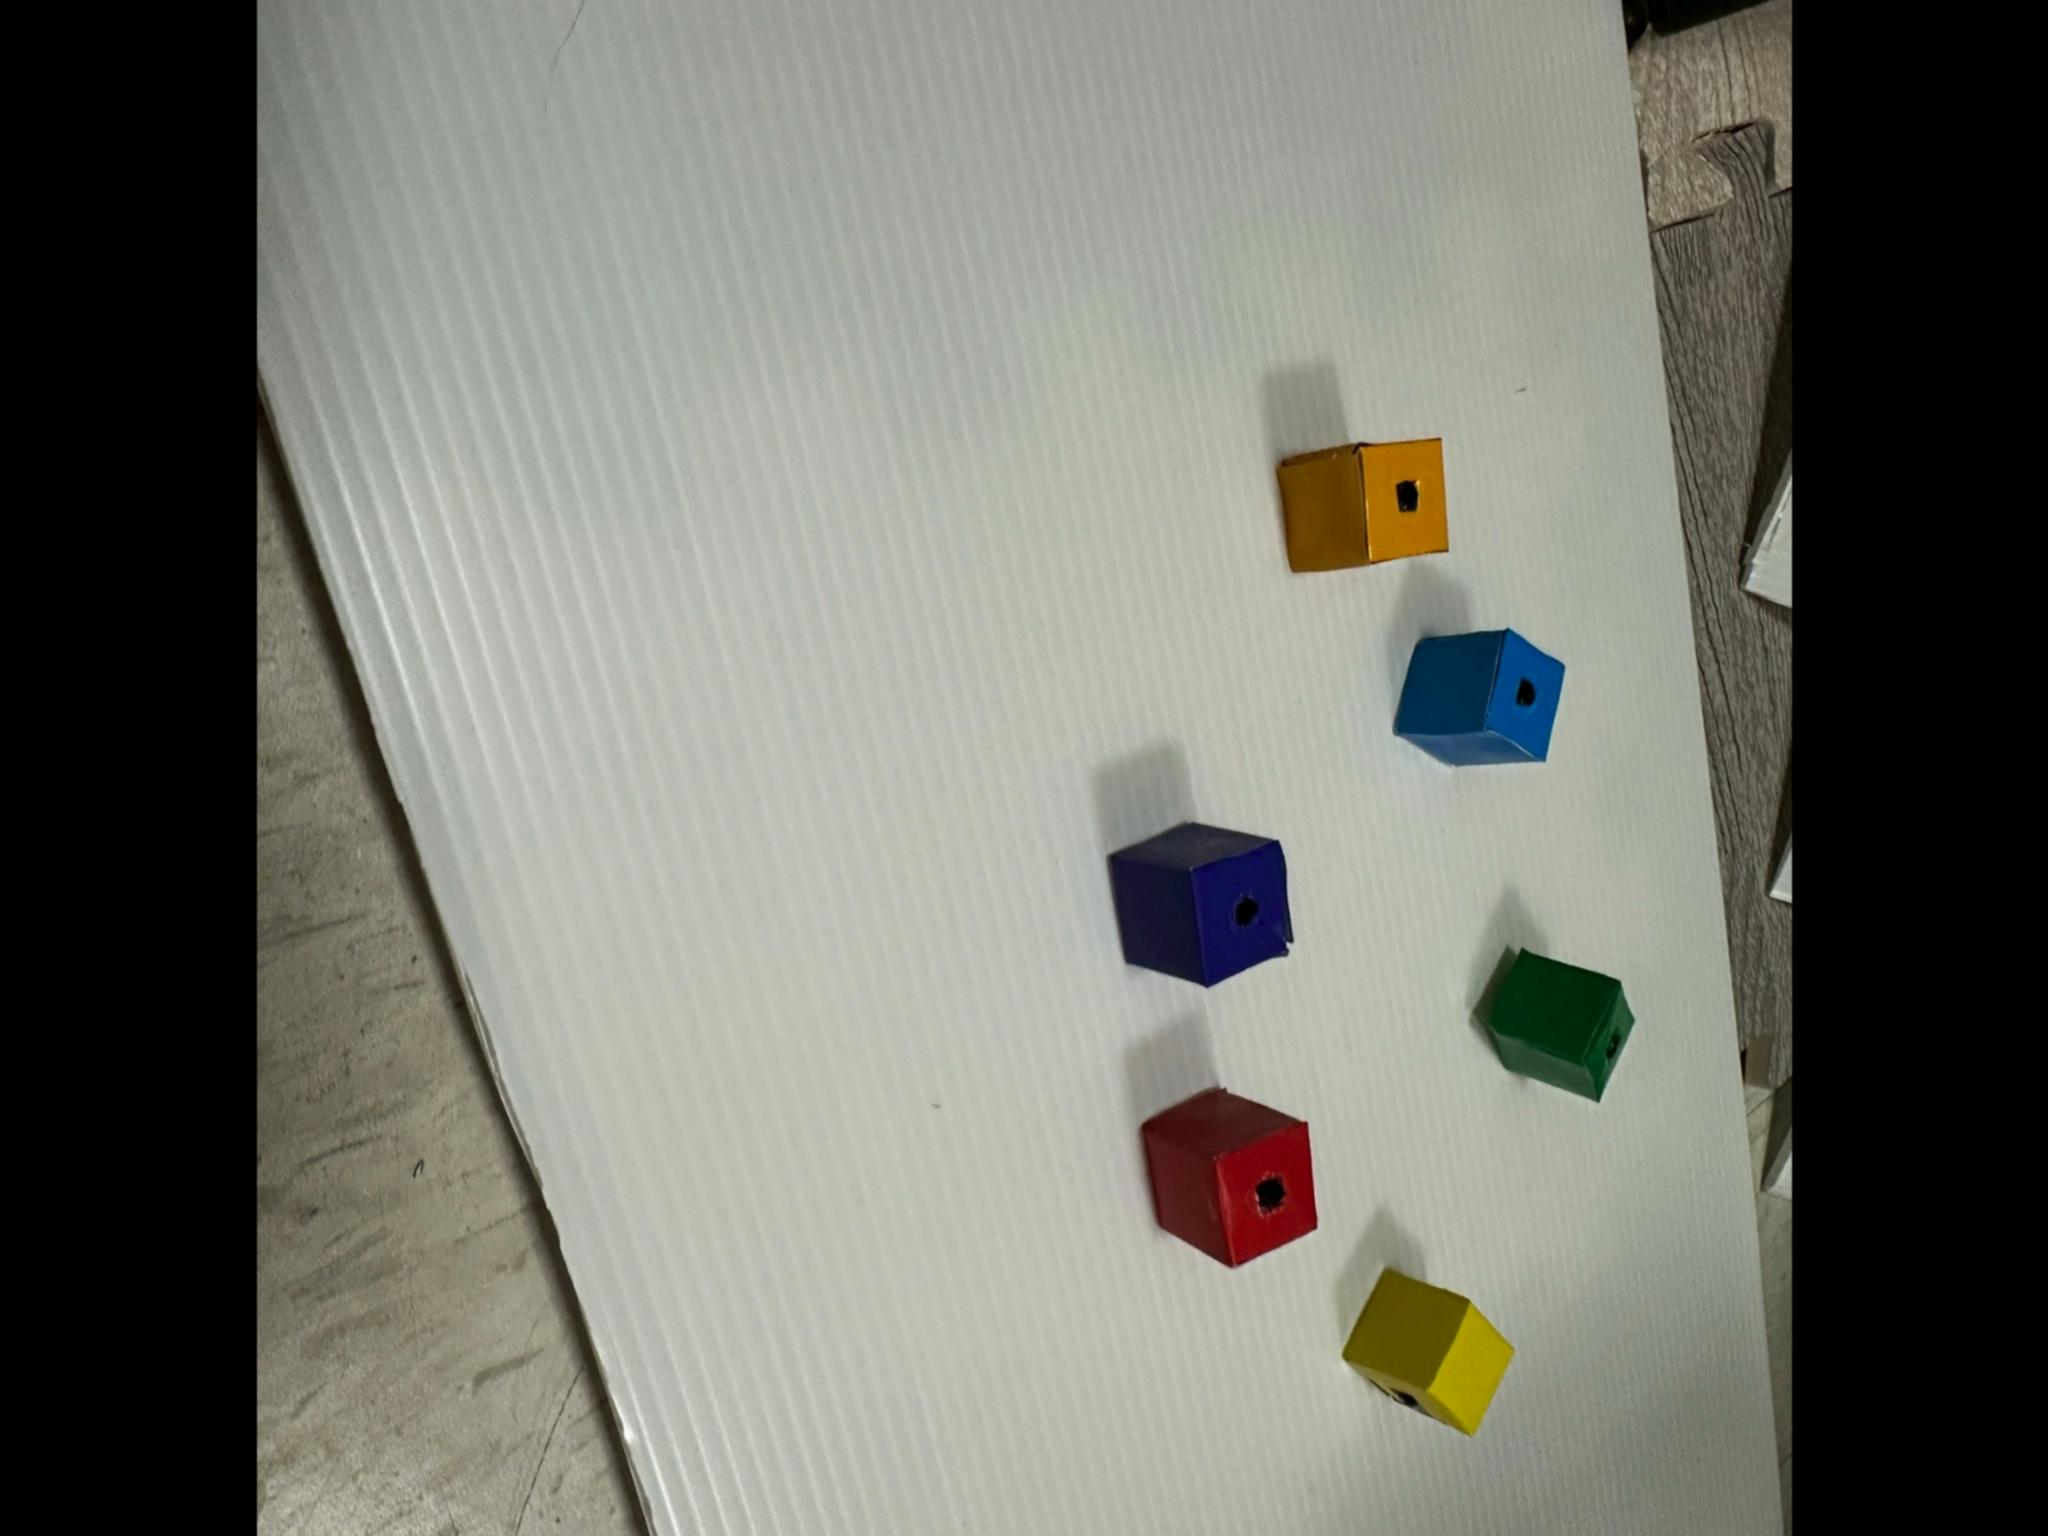cube: (1142, 1089, 1316, 1265), (1108, 823, 1292, 987), (1343, 1271, 1511, 1434), (1277, 439, 1448, 573), (1397, 629, 1563, 766), (1485, 950, 1634, 1100)
